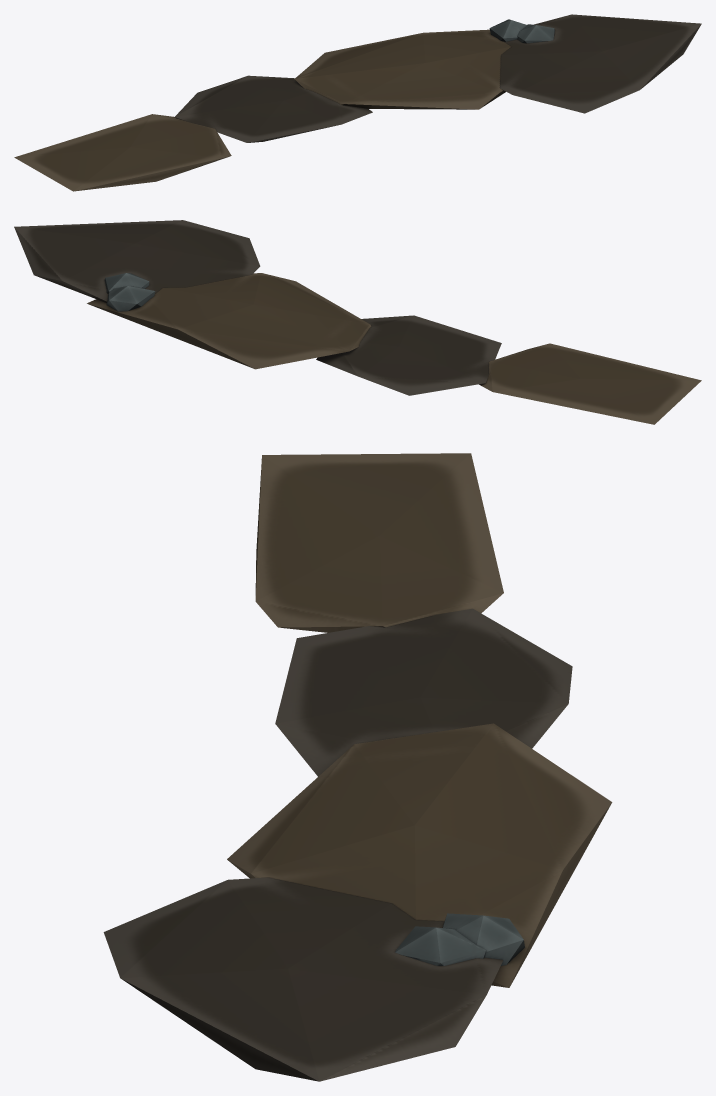
The model's file is edge_mud_a.glb.
3 renders of one model, top to bottom at view 1: azimuth 30°, elevation 25°; view 2: azimuth 150°, elevation 25°; view 3: azimuth 270°, elevation 25°, orthographic. The views are drawn at different scales.
Visible parts, largest first — view 1: edge_mud_a; view 2: edge_mud_a; view 3: edge_mud_a.
Boxes of the visible parts, x1,y1,x2,y2 form: edge_mud_a: (14, 14, 701, 191); edge_mud_a: (14, 220, 701, 424); edge_mud_a: (103, 453, 612, 1081).
Bounding box in the file's own units: 0.7278 × 0.0312 × 0.2466.
Materials: 1 (1 with a texture image).
